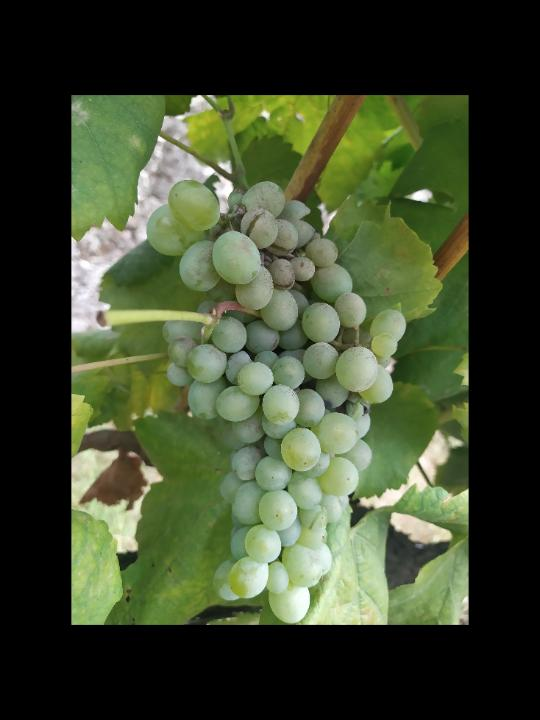grape: (143, 178, 409, 623)
